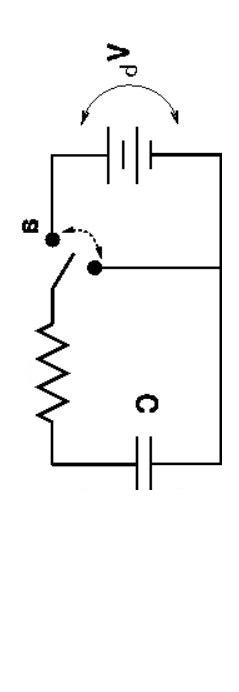resistor: (17, 311, 83, 438)
